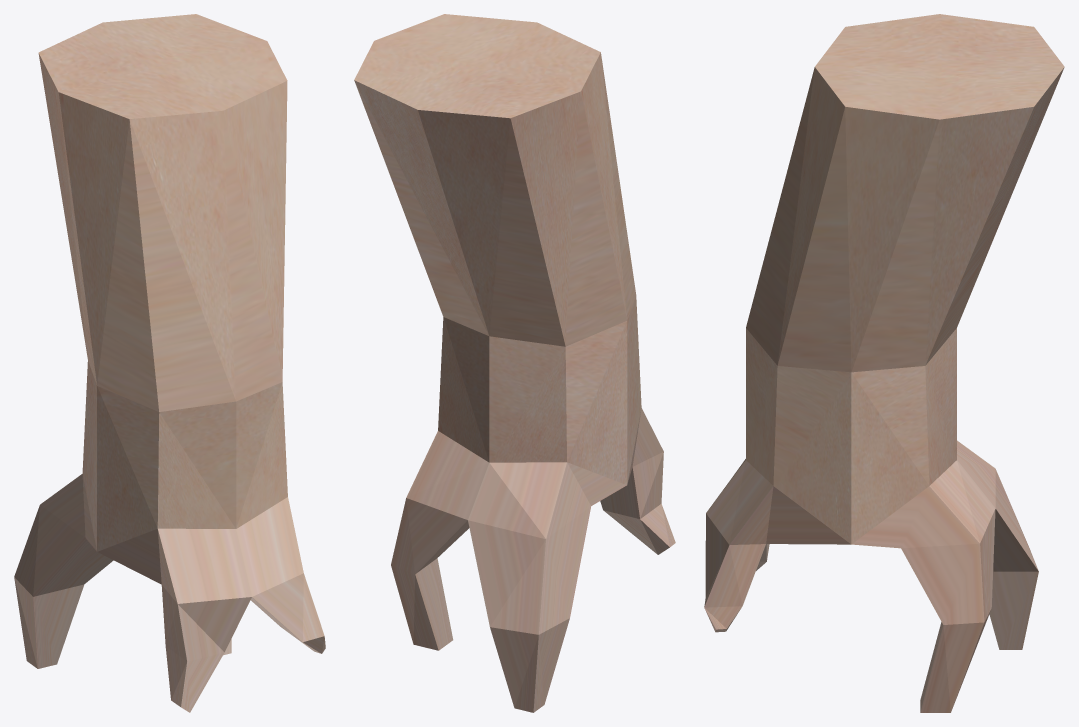
The model's file is tree.obj.
3 views of the same model, side by side, from view 1: azimuth 30°, elevation 25°; view 2: azimuth 150°, elevation 25°; view 3: azimuth 270°, elevation 25° (orthographic). The views are drawn at different scales.
Visible parts, largest first — view 1: Cube; view 2: Cube; view 3: Cube.
Boxes of the visible parts, left/top/right/bottom form: Cube: left=14, top=14, right=325, bottom=712; Cube: left=354, top=14, right=675, bottom=712; Cube: left=704, top=14, right=1064, bottom=712.
Bounding box in the file's own units: 2.74 × 7.26 × 3.81.
1 material, 1 textured.
